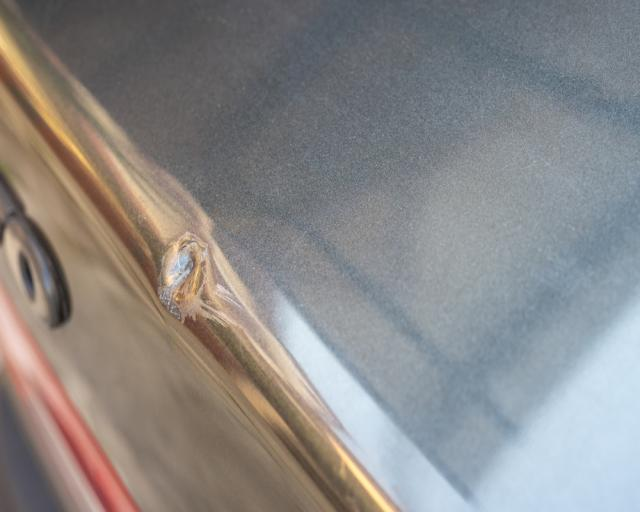scratch: (151, 228, 257, 345)
